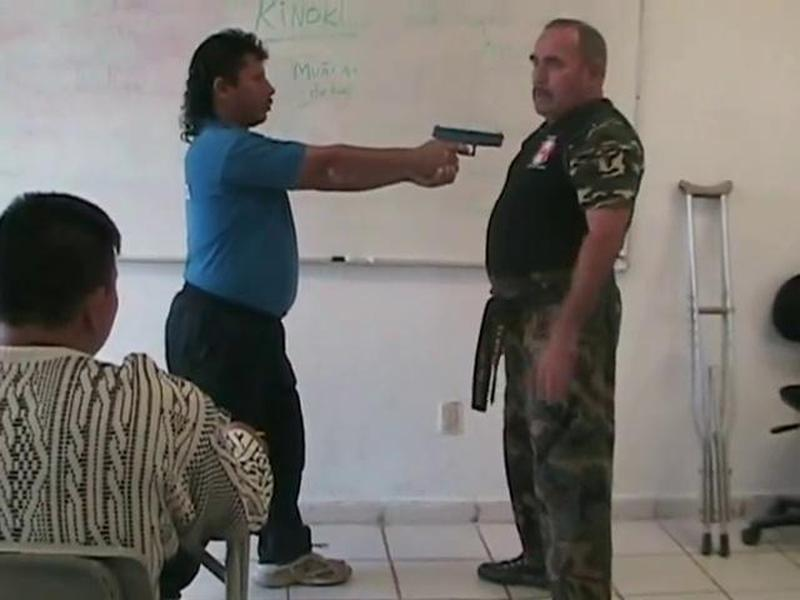Pistola: (425, 107, 508, 188)
